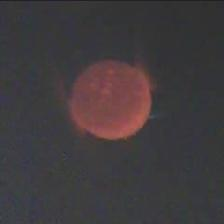infertile: (67, 58, 155, 140)
